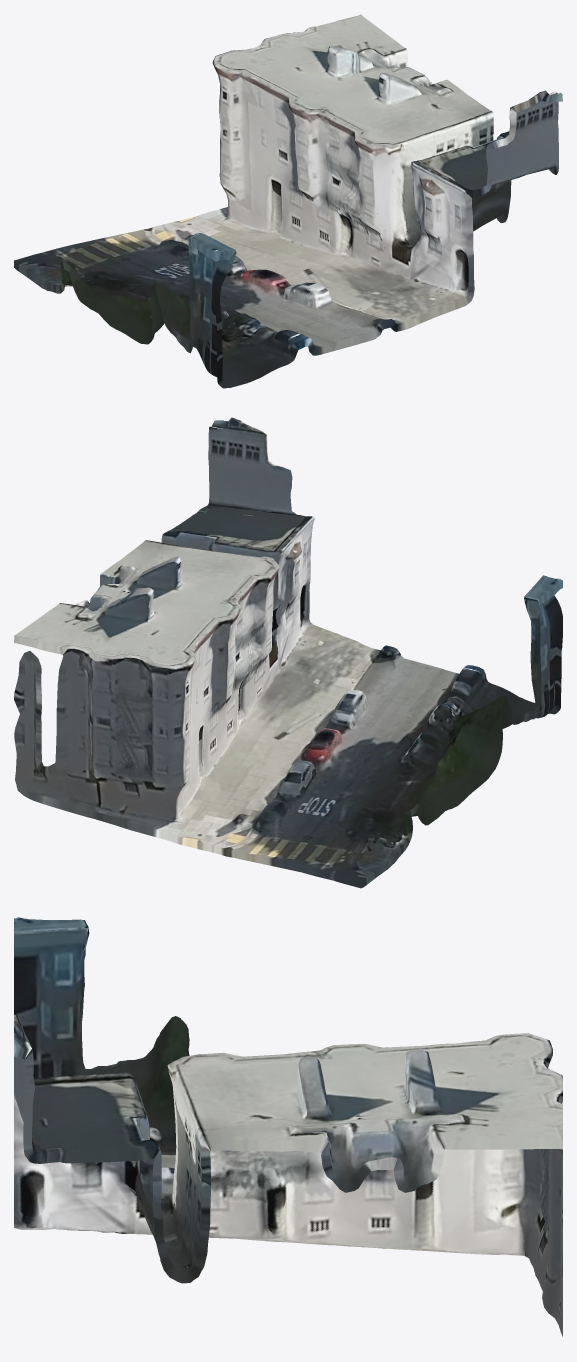
File: z20-167749-405194-h0-yup-uvflip-v3-world.glb
3 views of the same model, one above another, from view 1: azimuth 30°, elevation 25°; view 2: azimuth 150°, elevation 25°; view 3: azimuth 270°, elevation 25° (orthographic). The views are drawn at different scales.
Size of the model in its own units: 30.2 by 20.28 by 30.32.
Materials: 1 (1 with a texture image).
